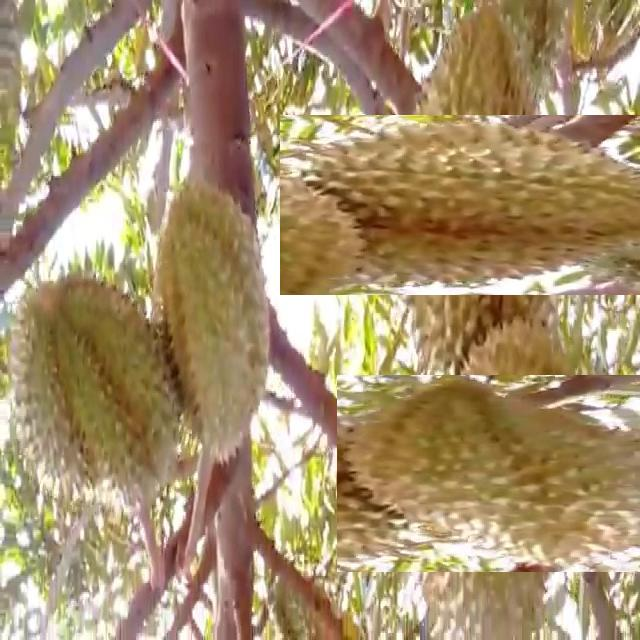durian: (335, 60, 623, 350), (369, 342, 633, 605), (6, 278, 188, 510), (150, 175, 275, 470)
